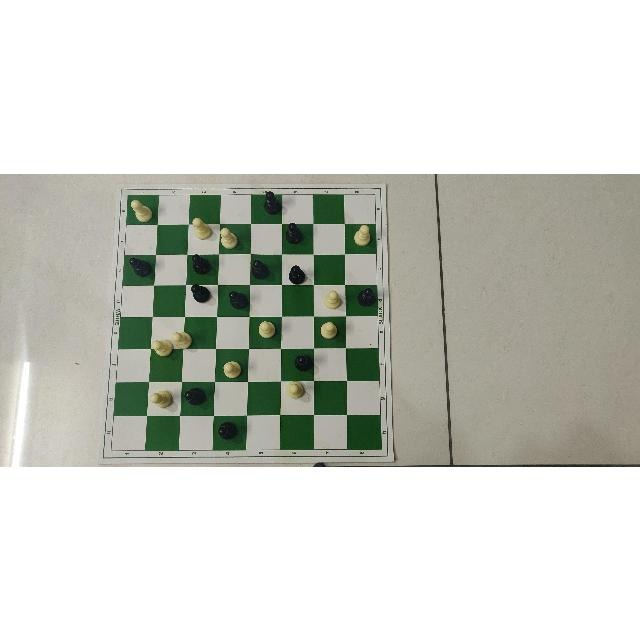black-pawn: (213, 416, 241, 442), (127, 254, 153, 280), (355, 283, 380, 308), (261, 189, 285, 215), (282, 220, 306, 246), (186, 281, 210, 305), (182, 387, 208, 409), (226, 287, 249, 311), (248, 258, 271, 281), (187, 253, 211, 275), (292, 352, 317, 372), (286, 263, 308, 283)
white-pawn: (217, 357, 249, 383), (144, 385, 174, 411), (248, 320, 282, 342), (319, 286, 349, 310), (126, 198, 153, 224), (185, 216, 213, 240), (351, 223, 377, 247), (217, 225, 241, 249), (150, 335, 173, 357), (316, 316, 340, 337), (170, 329, 193, 349), (283, 380, 305, 400)
